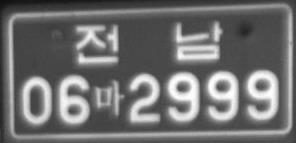0: (21, 74, 53, 125)
2: (130, 72, 160, 123)
6: (58, 74, 90, 124)
9: (245, 68, 279, 120), (166, 71, 200, 121), (206, 70, 239, 120)
마: (94, 78, 124, 117)
전남_D: (75, 20, 223, 64)
